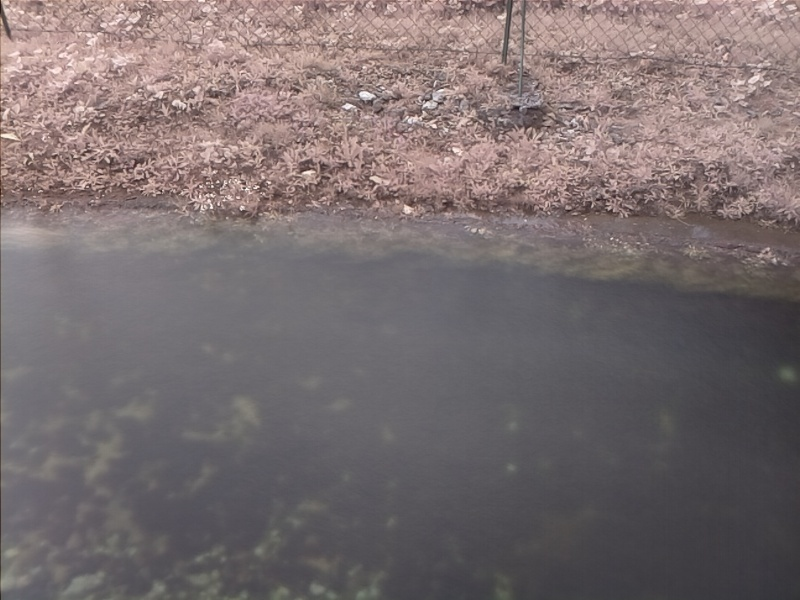Water: (1, 205, 799, 600)
